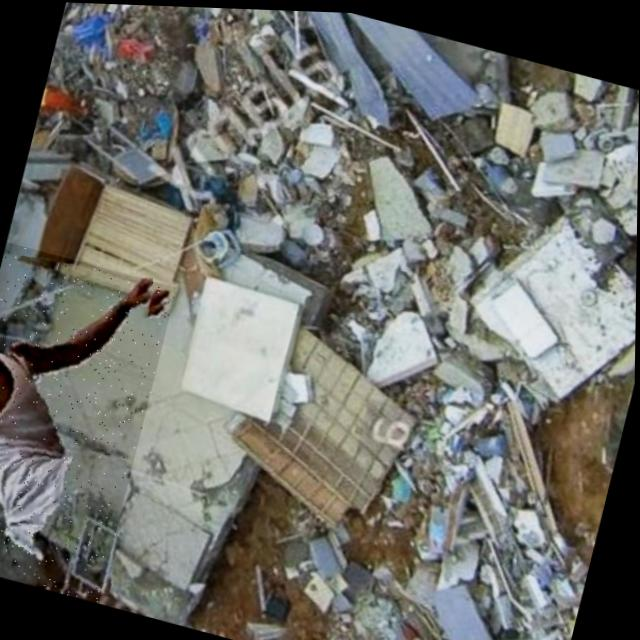Person in Rubble: (0, 240, 177, 604)
